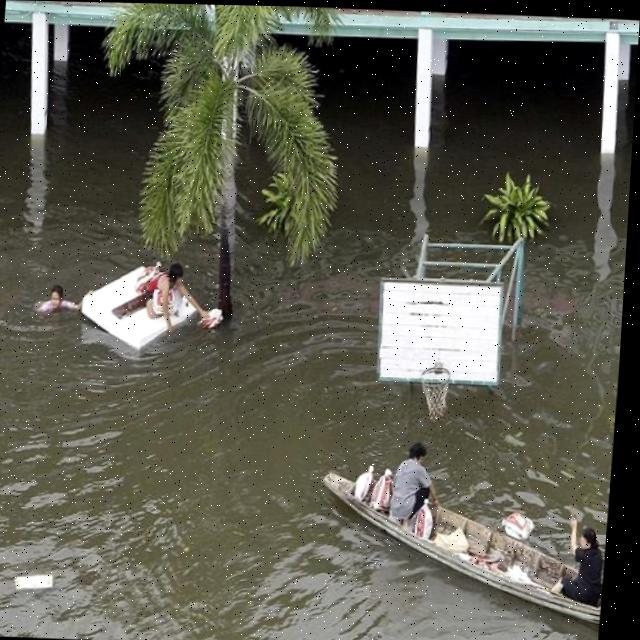civilian: (134, 258, 218, 338), (549, 507, 607, 616), (383, 436, 445, 534), (24, 271, 89, 334)
